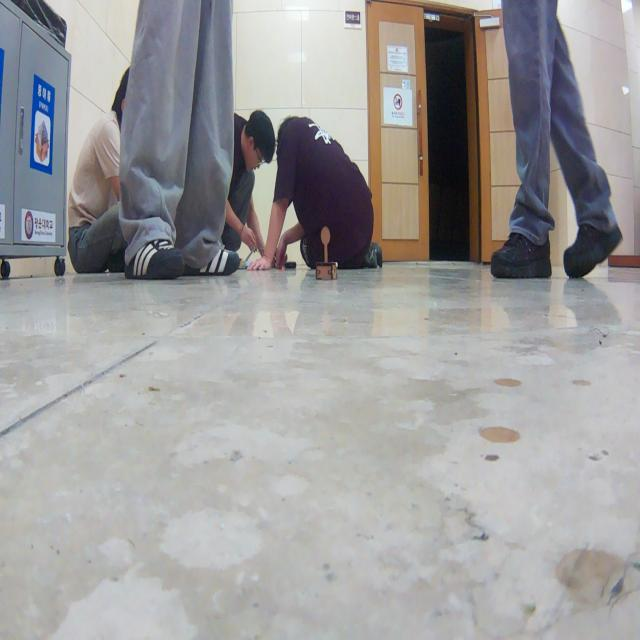target: (316, 225, 338, 280)
